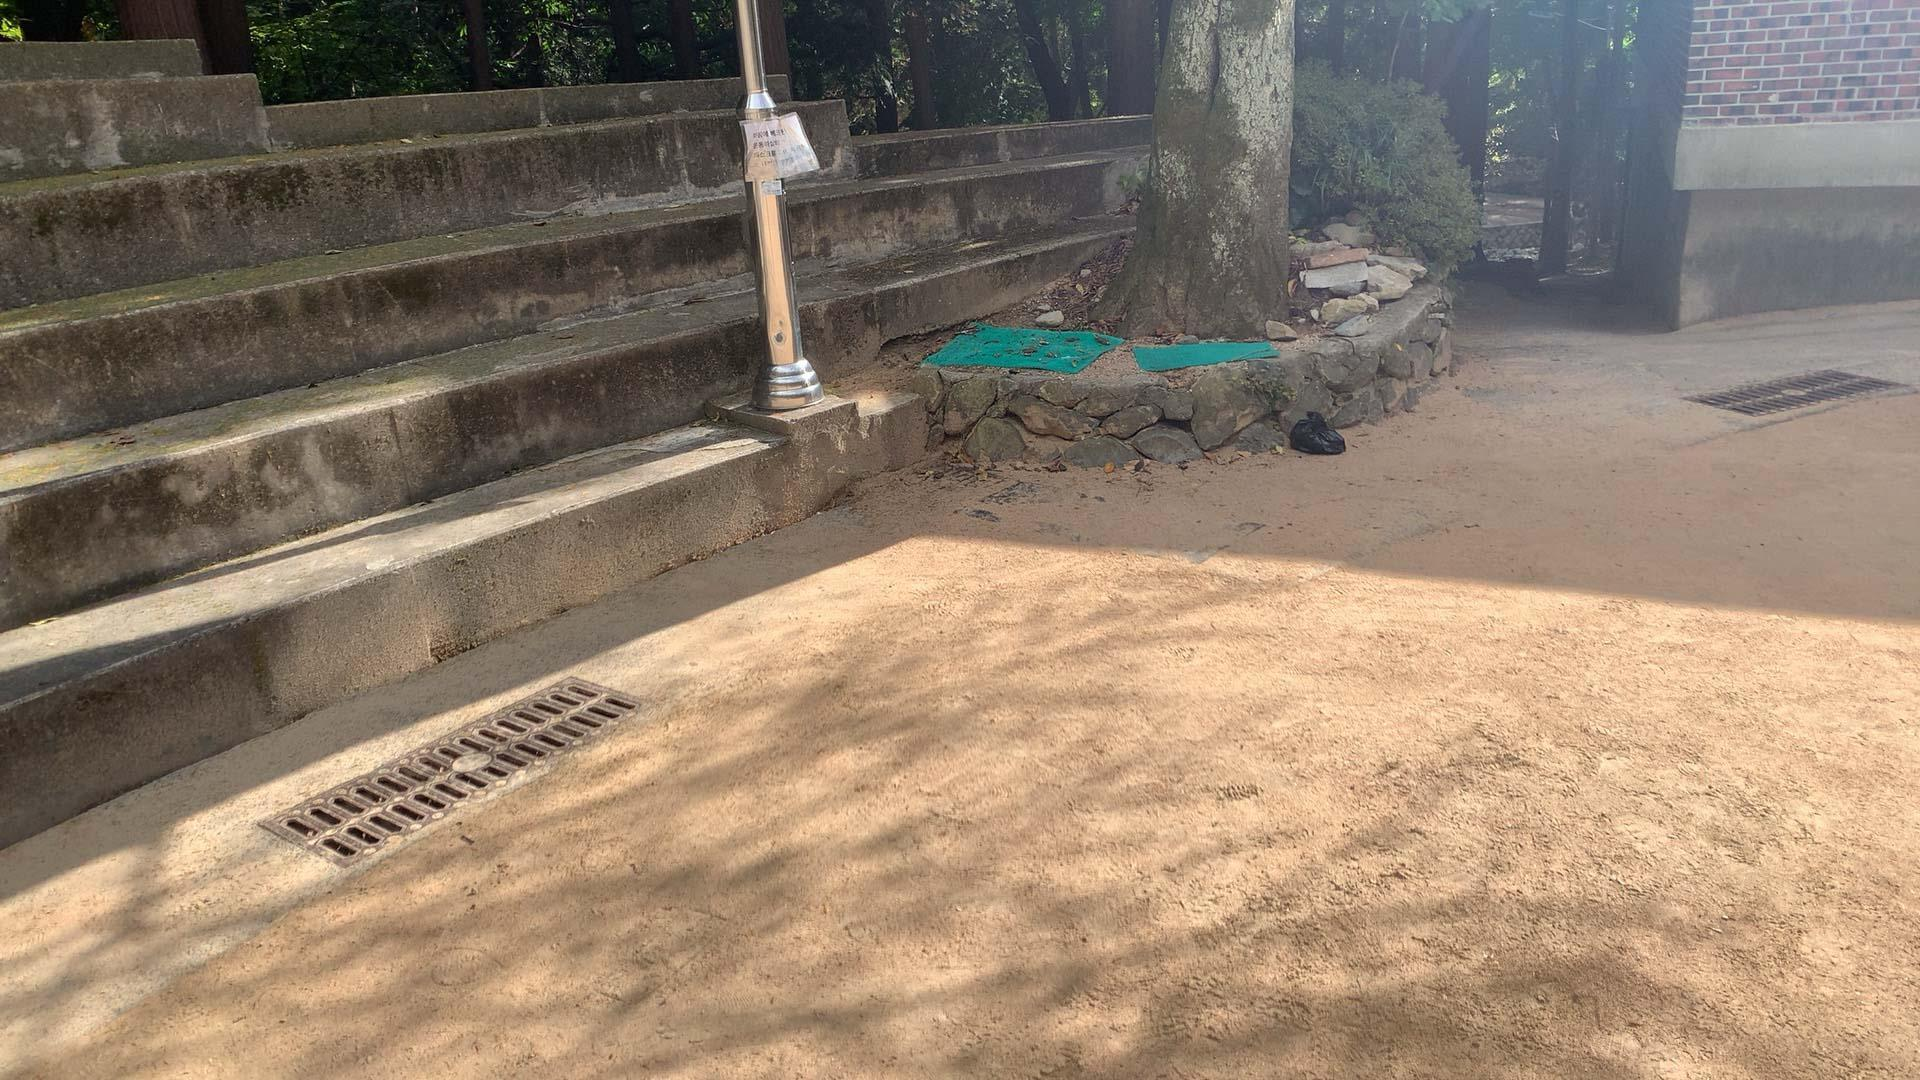black_bag: (1283, 407, 1352, 458)
